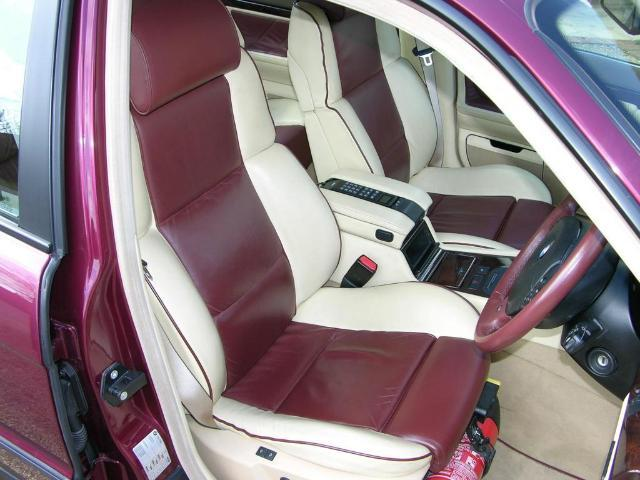Seatbelt: (414, 34, 444, 166)
